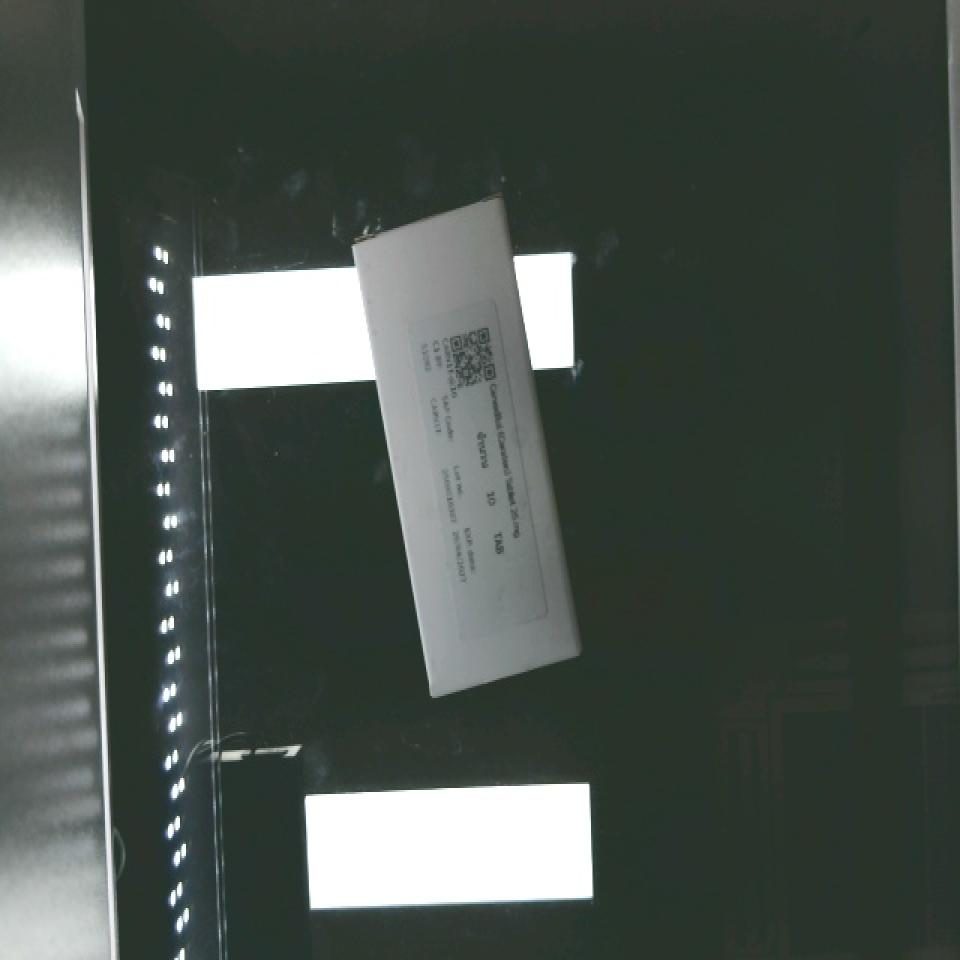medicine_box: (346, 193, 587, 700)
qr_code: (437, 314, 511, 400)
